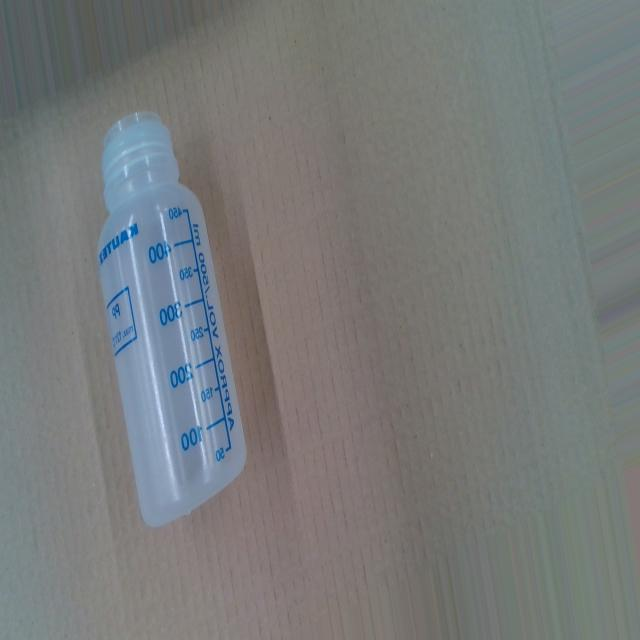bottle: (94, 105, 248, 539)
